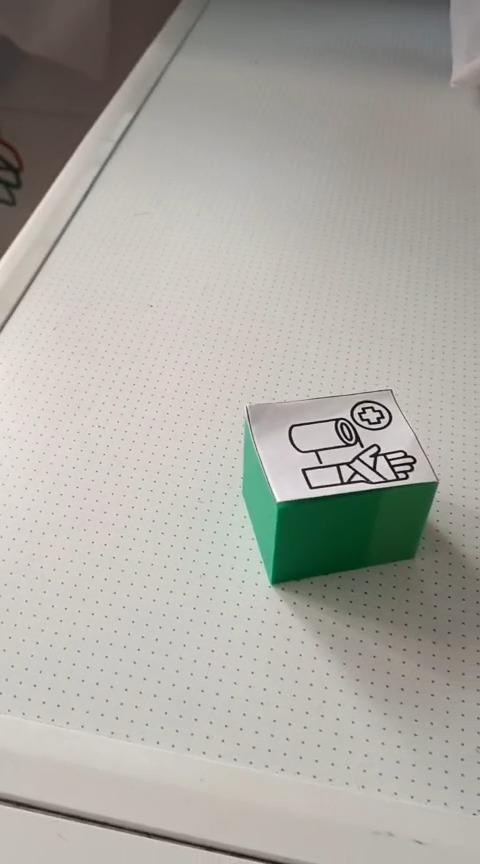Bandages: (242, 387, 439, 585)
